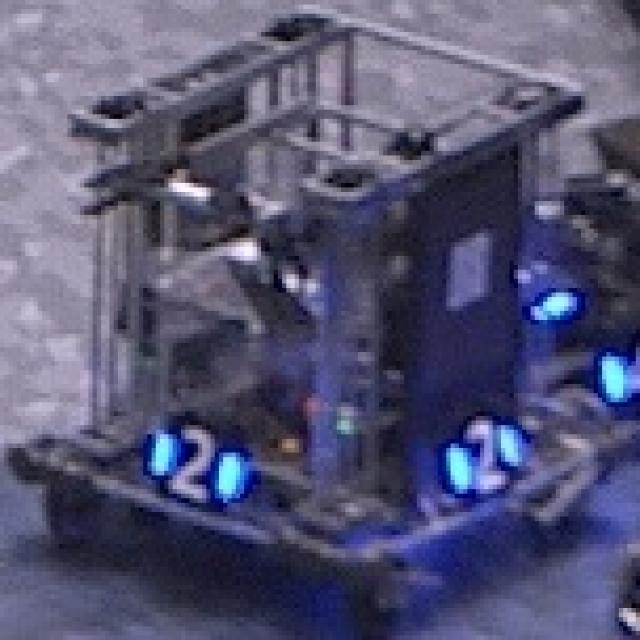B2: (143, 421, 240, 498), (446, 407, 522, 498)
